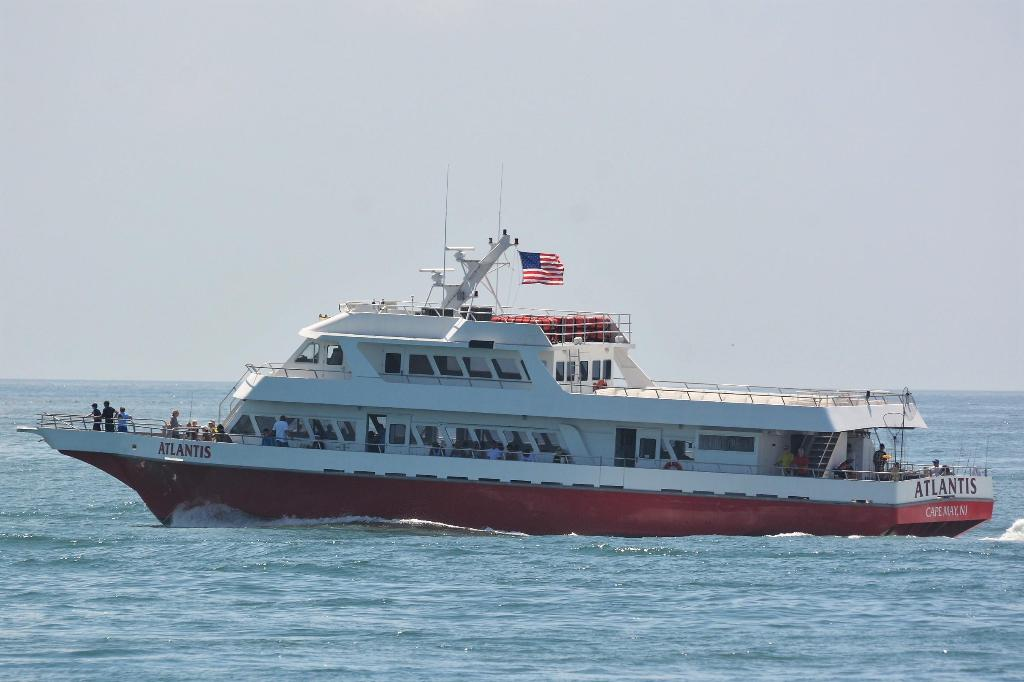PassengerShip: (14, 238, 1016, 556)
